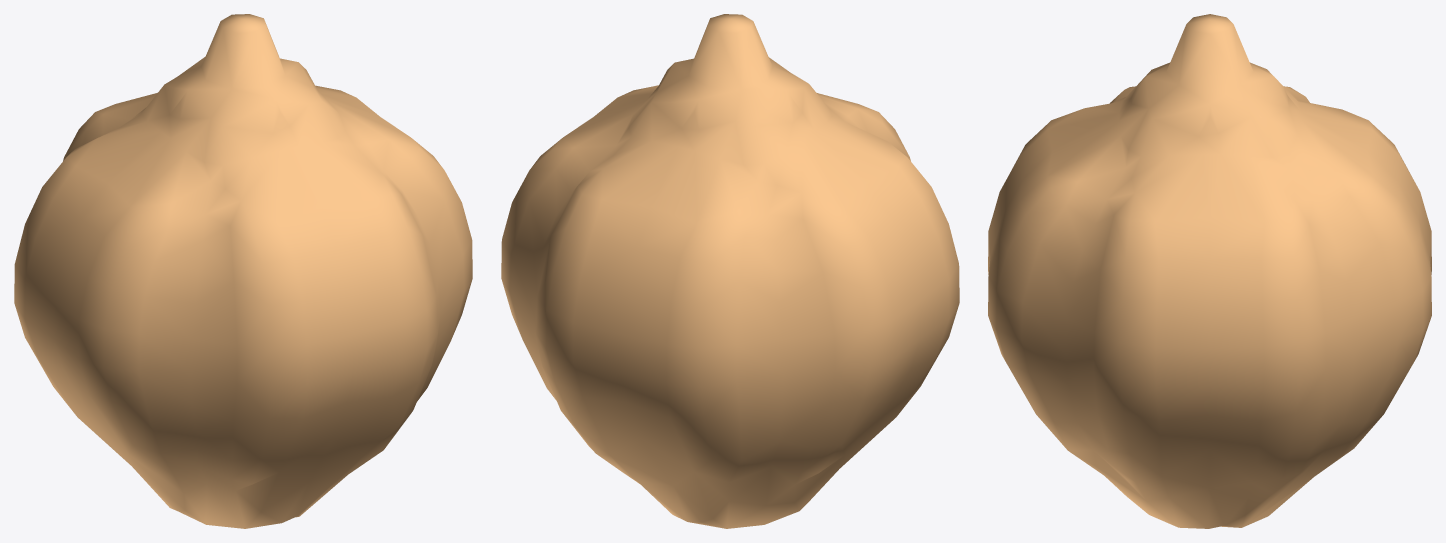
File: item_lanternfruit.fbx
3 renders of one model, left to right at view 1: azimuth 30°, elevation 25°; view 2: azimuth 150°, elevation 25°; view 3: azimuth 270°, elevation 25°, orthographic.
Parts seen in each view (by area): view 1: item_lanternfruit; view 2: item_lanternfruit; view 3: item_lanternfruit.
Part boxes in pixels (bbox=[...]): item_lanternfruit: bbox=[14, 14, 472, 528]; item_lanternfruit: bbox=[501, 14, 959, 528]; item_lanternfruit: bbox=[988, 14, 1431, 528].
Size of the model in its own units: 1.65 by 1.97 by 1.65.
